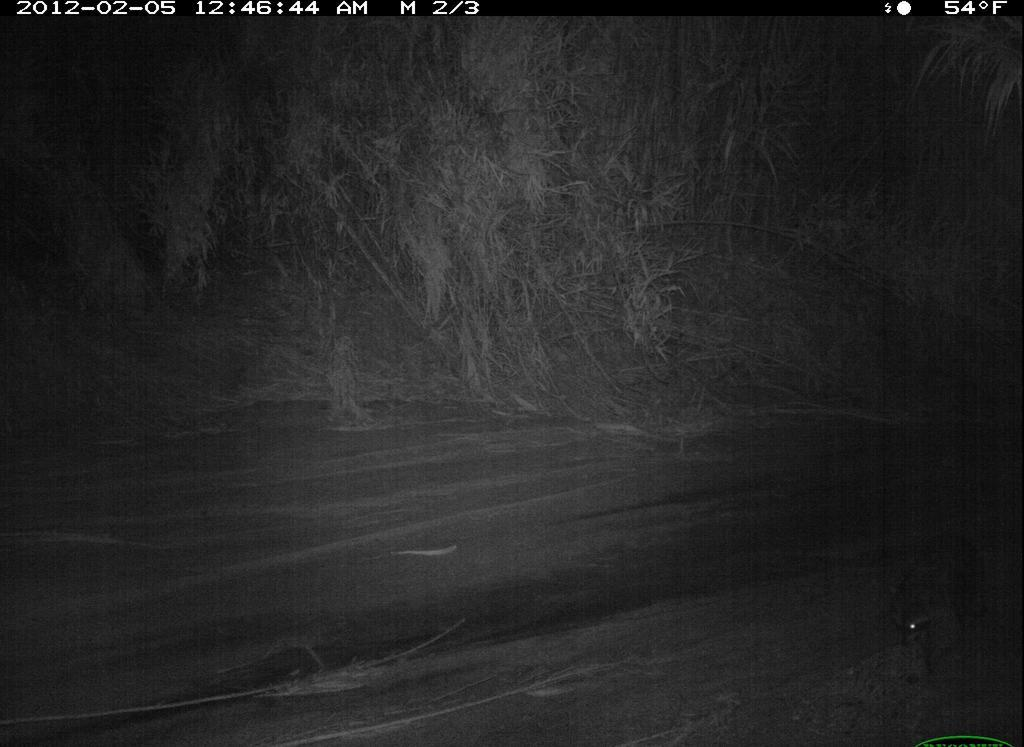raccoon: (883, 514, 1010, 688)
